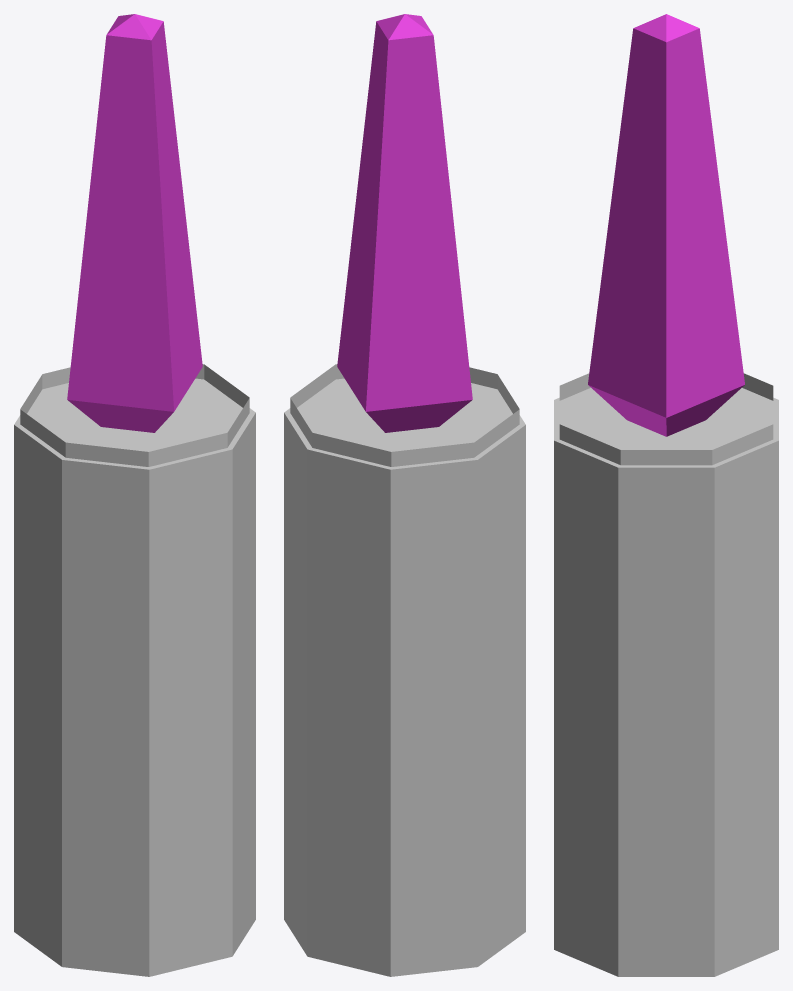
Rendered from obelisk_lod2.dae.
3 views of the same model, side by side, from view 1: azimuth 30°, elevation 25°; view 2: azimuth 150°, elevation 25°; view 3: azimuth 270°, elevation 25° (orthographic).
Visible parts, largest first — view 1: bld_base2_005; view 2: bld_base2_005; view 3: bld_base2_005.
Part boxes in pixels (box(x1,y1,x2,y2)): bld_base2_005: box(14, 14, 255, 976); bld_base2_005: box(284, 14, 525, 976); bld_base2_005: box(554, 14, 778, 976).
Size of the model in its own units: 20 by 20 by 89.89.
